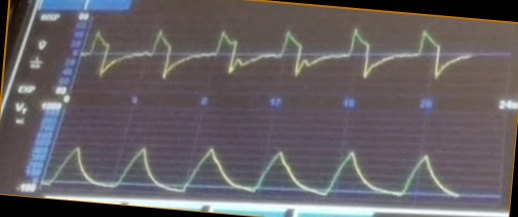Premature_cycling Flow: (88, 25, 473, 92)
Premature_cycling Volume: (52, 139, 459, 199)
